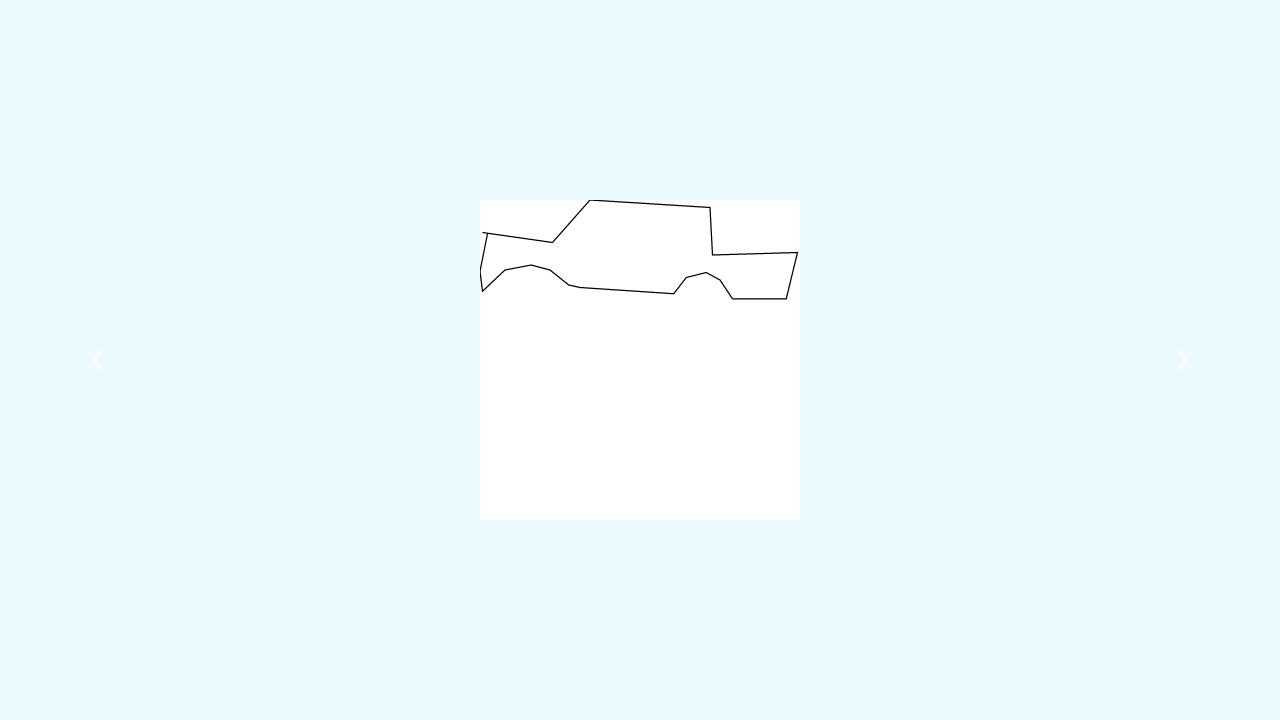car: (474, 192, 803, 316)
